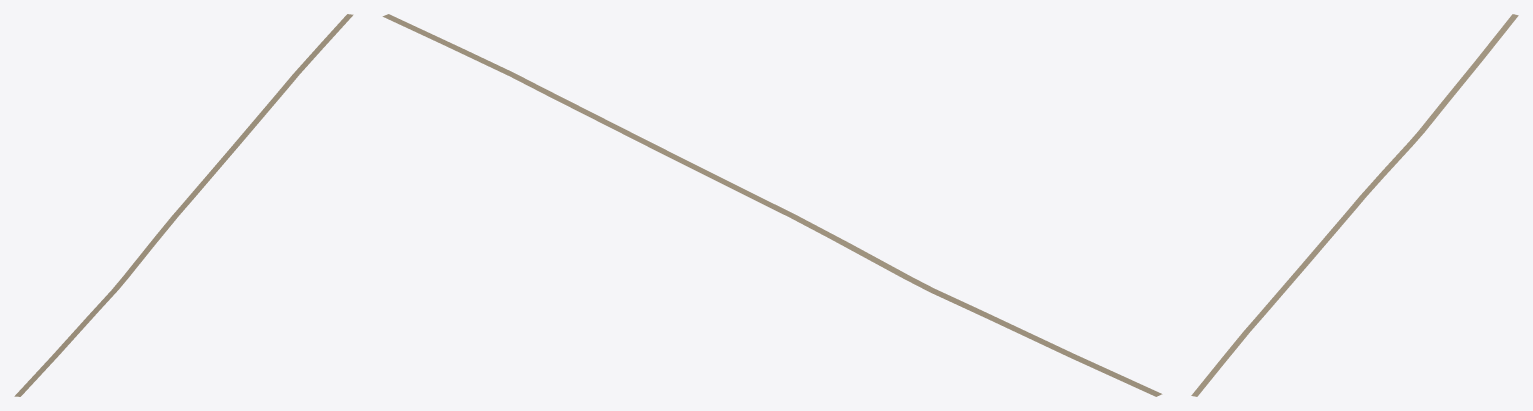
File: farm_22_25_track.glb
3 views of the same model, side by side, from view 1: azimuth 90°, elevation 25°; view 2: azimuth 150°, elevation 25°; view 3: azimuth 270°, elevation 25° (orthographic). The views are drawn at different scales.
Visible parts, largest first — view 1: geometry_0; view 2: geometry_0; view 3: geometry_0.
Part boxes in pixels (x1=…): geometry_0: x1=14, y1=14, x2=353, y2=396; geometry_0: x1=382, y1=14, x2=1162, y2=396; geometry_0: x1=1191, y1=14, x2=1518, y2=396.
Bounding box in the file's own units: 443 × 4.1 × 163.
